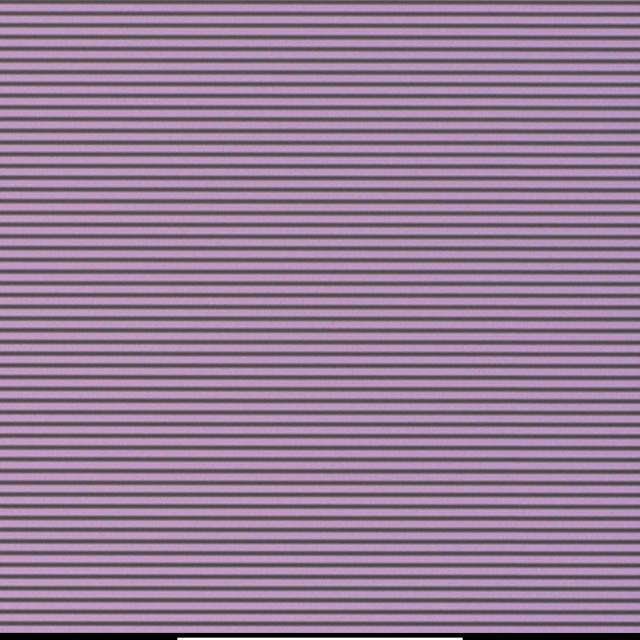nonvisual: (330, 326, 338, 332)
